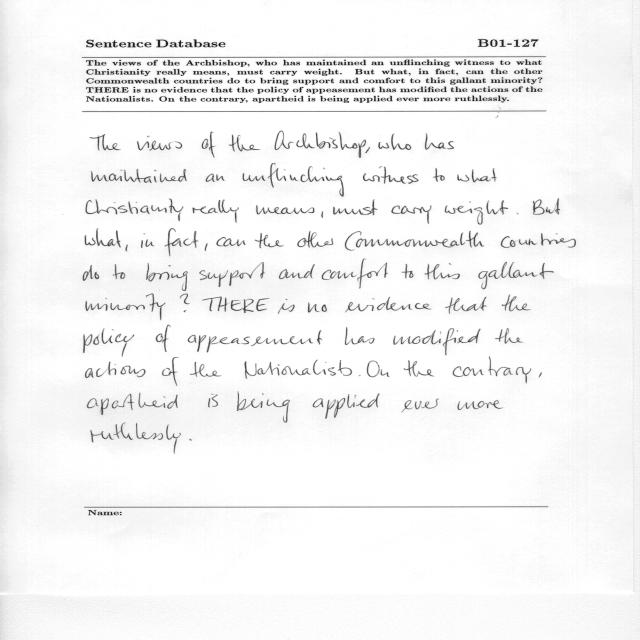word: (242, 164, 344, 197), (188, 331, 323, 353), (345, 231, 484, 251), (91, 423, 181, 453), (275, 131, 371, 158), (393, 328, 481, 356), (86, 199, 183, 221), (453, 357, 531, 384), (86, 294, 166, 320), (478, 262, 554, 289), (244, 360, 352, 379), (87, 393, 178, 415), (322, 259, 388, 288), (313, 393, 380, 419), (199, 262, 265, 287), (237, 392, 290, 423), (445, 201, 508, 225), (84, 328, 134, 357), (91, 169, 187, 183), (346, 297, 432, 312), (146, 263, 188, 291), (192, 199, 239, 223), (501, 233, 576, 248), (203, 297, 270, 313), (363, 166, 419, 184), (86, 362, 146, 378), (165, 229, 199, 257), (392, 205, 432, 224), (445, 297, 487, 314), (333, 200, 377, 216), (85, 229, 121, 248), (137, 136, 182, 151), (297, 231, 333, 248), (424, 263, 460, 280), (457, 169, 497, 183), (279, 264, 315, 279), (345, 327, 375, 345), (401, 399, 439, 413), (256, 206, 315, 215), (229, 135, 260, 152), (90, 134, 120, 151), (404, 360, 434, 377), (425, 133, 454, 150), (502, 295, 531, 312), (162, 357, 179, 386), (190, 362, 222, 377), (457, 400, 503, 410), (533, 198, 560, 215), (255, 233, 284, 248), (495, 328, 523, 343), (156, 325, 171, 352), (202, 132, 216, 158), (367, 361, 389, 377), (391, 133, 411, 150), (217, 237, 246, 247), (83, 265, 99, 281), (278, 299, 295, 314), (308, 302, 327, 313), (141, 234, 154, 248), (113, 264, 125, 279), (180, 294, 190, 312), (402, 264, 414, 278), (433, 168, 445, 181), (206, 174, 224, 182), (208, 394, 218, 407), (379, 142, 390, 149), (205, 243, 208, 251), (125, 245, 128, 251), (539, 372, 542, 378), (321, 211, 323, 218), (189, 439, 192, 441), (517, 213, 519, 214), (359, 375, 361, 376)
